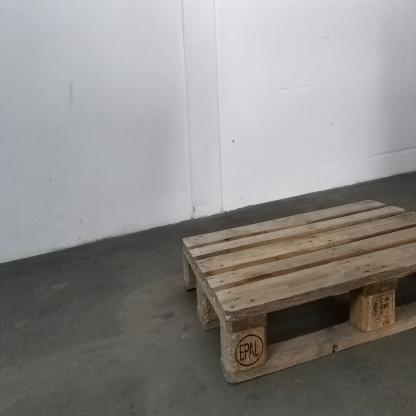BoxFace: (181, 194, 416, 394)
